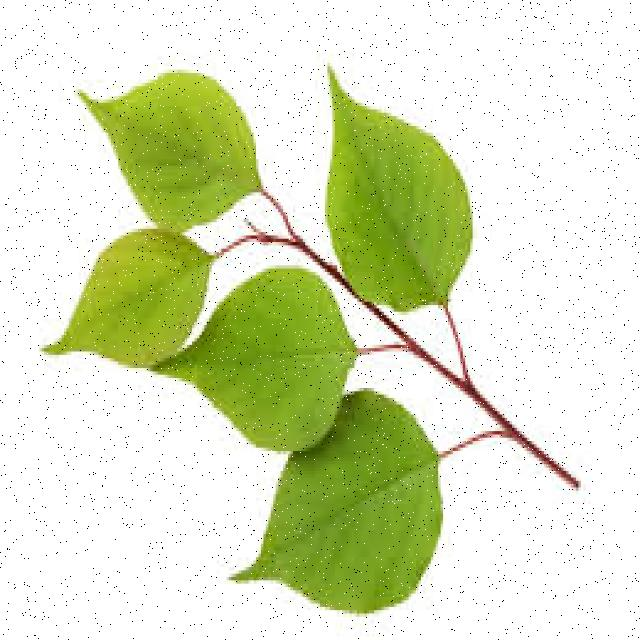kayisi_yapragi: (41, 51, 587, 601)
